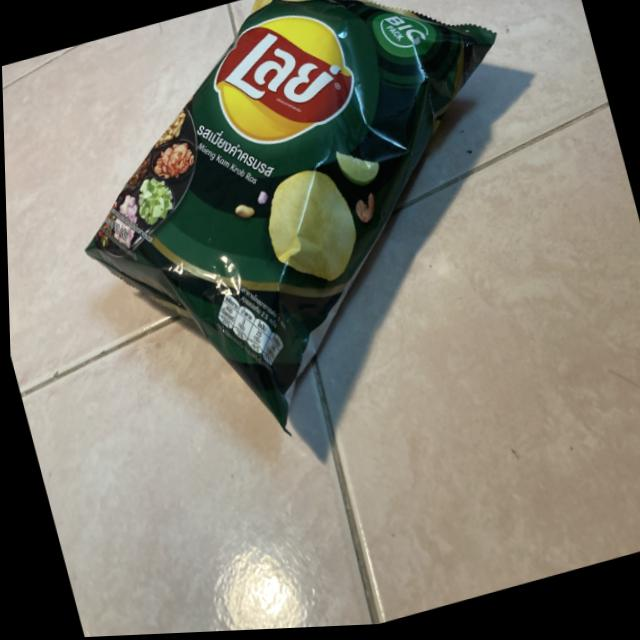Laygreen: (20, 0, 624, 507)
